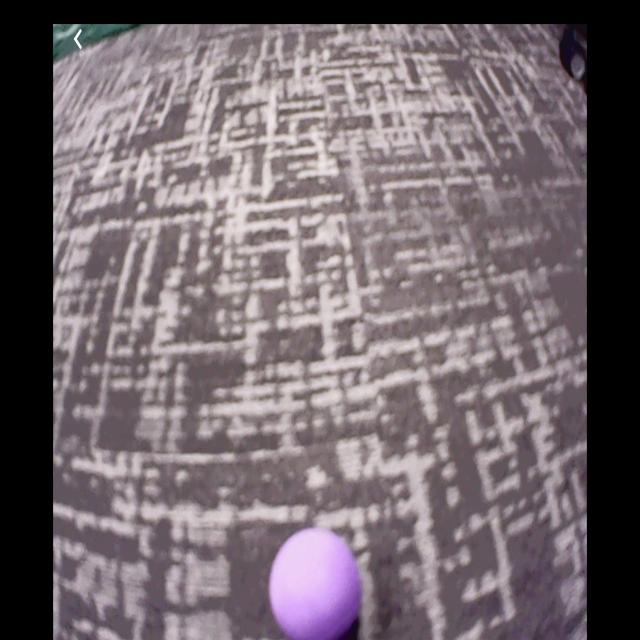ball: (270, 530, 362, 638)
